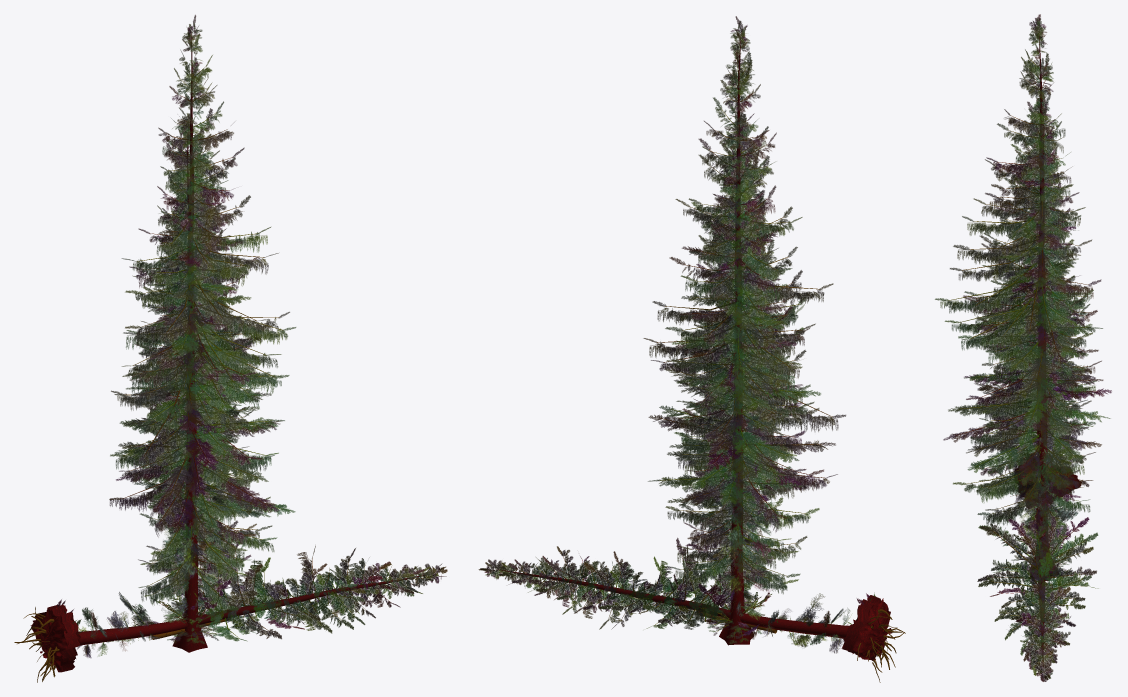
File: trees.glb
3 renders of one model, left to right at view 1: azimuth 30°, elevation 25°; view 2: azimuth 150°, elevation 25°; view 3: azimuth 270°, elevation 25°, orthographic. The views are drawn at different scales.
Visible parts, largest first — view 1: conifer_2, conifer_0, conifer_3, fallen_tree, conifer_1, fallen_tree_b, fallen_tree_a; view 2: conifer_2, conifer_3, conifer_0, fallen_tree, conifer_1, fallen_tree_b, fallen_tree_a; view 3: conifer_2, conifer_3, conifer_0, conifer_1, fallen_tree, fallen_tree_b, fallen_tree_a.
Boxes of the visible parts, left/top/right/bottom form: conifer_2: left=121, top=15, right=296, bottom=652; conifer_0: left=109, top=113, right=278, bottom=649; conifer_3: left=115, top=152, right=295, bottom=616; fallen_tree: left=14, top=543, right=447, bottom=682; conifer_1: left=135, top=228, right=277, bottom=621; fallen_tree_b: left=184, top=542, right=446, bottom=641; fallen_tree_a: left=14, top=592, right=187, bottom=682; conifer_2: left=643, top=16, right=845, bottom=645; conifer_3: left=648, top=158, right=835, bottom=609; conifer_0: left=666, top=112, right=837, bottom=612; fallen_tree: left=479, top=538, right=904, bottom=682; conifer_1: left=665, top=234, right=819, bottom=615; fallen_tree_b: left=479, top=538, right=765, bottom=629; fallen_tree_a: left=740, top=593, right=905, bottom=679; conifer_2: left=935, top=14, right=1101, bottom=581; conifer_3: left=943, top=138, right=1111, bottom=533; conifer_0: left=964, top=98, right=1101, bottom=574; conifer_1: left=953, top=222, right=1095, bottom=550; fallen_tree: left=978, top=461, right=1097, bottom=681; fallen_tree_b: left=977, top=516, right=1097, bottom=681; fallen_tree_a: left=1014, top=457, right=1081, bottom=551.
Size of what is drawn, in the model's own units: 20.75 by 30.54 by 8.52.
6 materials, 6 textured.
